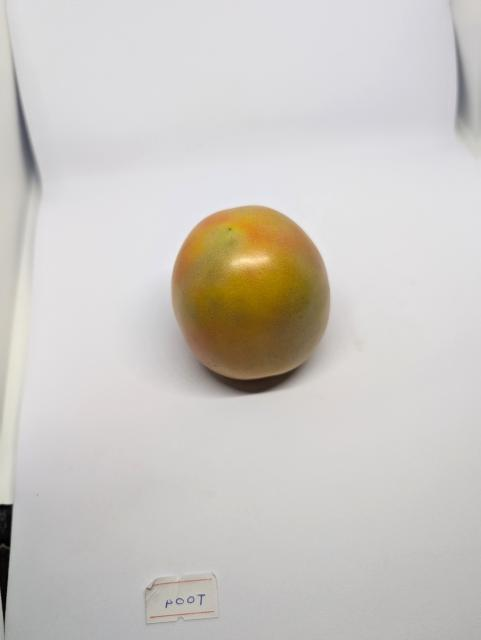turning: (158, 196, 336, 387)
